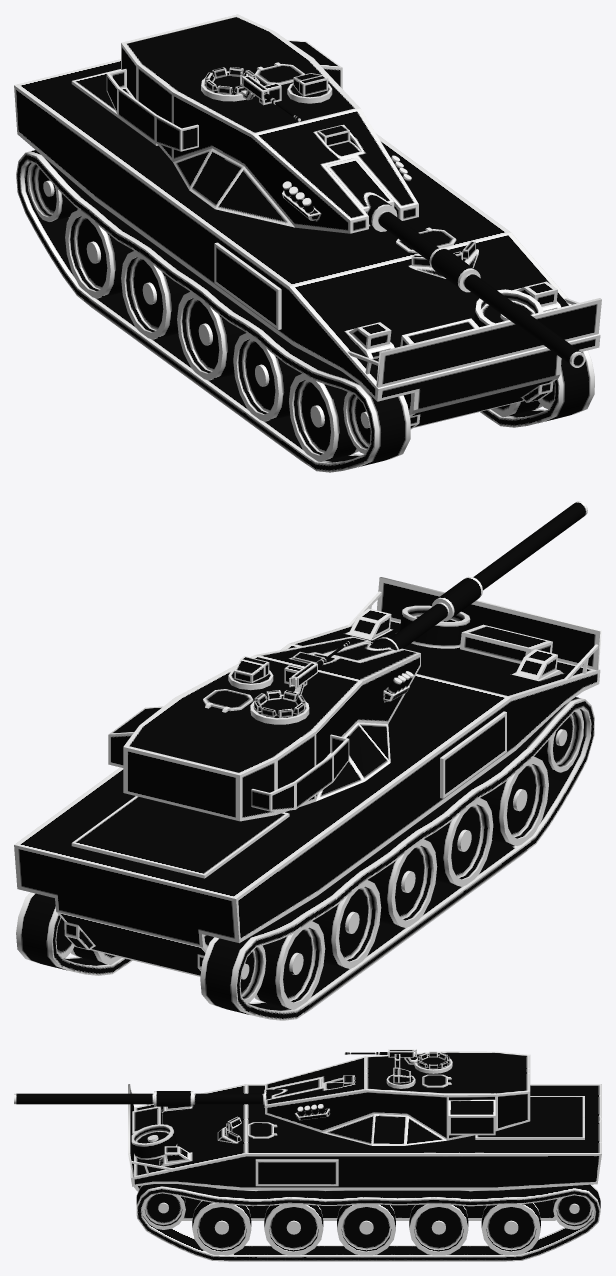
File: MBT_XM17.fbx
3 renders of one model, top to bottom at view 1: azimuth 30°, elevation 25°; view 2: azimuth 150°, elevation 25°; view 3: azimuth 270°, elevation 25°, orthographic. The views are drawn at different scales.
Visible parts, largest first — view 1: MBT_Hull, MBT_Turret, MBT_RightTrack, MBT_Cannon, MBT_LeftTrack; view 2: MBT_Hull, MBT_RightTrack, MBT_Turret, MBT_Cannon, MBT_LeftTrack; view 3: MBT_Hull, MBT_LeftTrack, MBT_Turret, MBT_Cannon.
Part boxes in pixels (box(x1,y1,x2,y2)): MBT_Hull: box(14, 59, 601, 429); MBT_Turret: box(106, 14, 418, 233); MBT_RightTrack: box(16, 150, 410, 472); MBT_Cannon: box(325, 157, 585, 367); MBT_LeftTrack: box(480, 350, 594, 427); MBT_Hull: box(14, 577, 601, 976); MBT_RightTrack: box(200, 697, 594, 1020); MBT_Turret: box(108, 636, 420, 821); MBT_Cannon: box(327, 501, 587, 661); MBT_LeftTrack: box(16, 892, 132, 975); MBT_Hull: box(128, 1084, 601, 1220); MBT_LeftTrack: box(136, 1184, 600, 1261); MBT_Turret: box(265, 1049, 530, 1145); MBT_Cannon: box(14, 1078, 321, 1107).
Size of the model in its own units: 176 by 192 by 606.
1 material, 1 textured.
